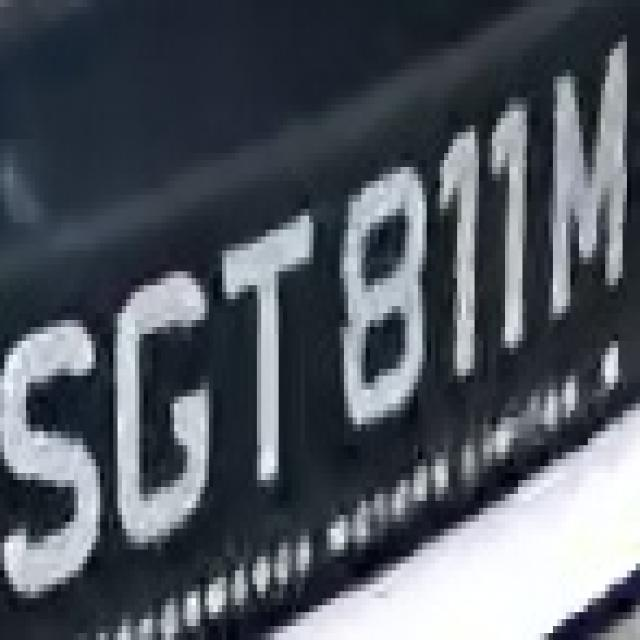1: (479, 98, 548, 390), (418, 125, 488, 397)
8: (326, 146, 436, 452)
G: (109, 237, 226, 570)
M: (544, 28, 632, 334)
S: (0, 292, 113, 619)
T: (205, 208, 322, 514)
